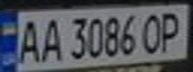0: (84, 13, 106, 60)
3: (66, 14, 87, 61)
6: (118, 11, 142, 56)
8: (103, 12, 124, 57)
A: (12, 16, 45, 64), (36, 15, 63, 63)
O: (139, 10, 166, 55)
P: (154, 8, 190, 54)
